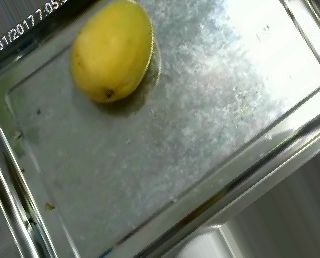Mango: (69, 0, 154, 102)
